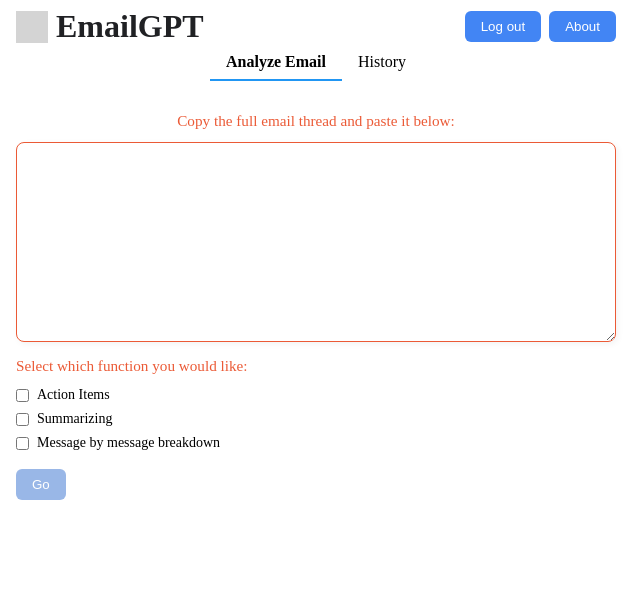
Scenario: MainScreen › shows error message when API key is invalid
Type "Test email content" into the text box.
click(316, 242); type("Test email content")  # box [16,142,616,342]
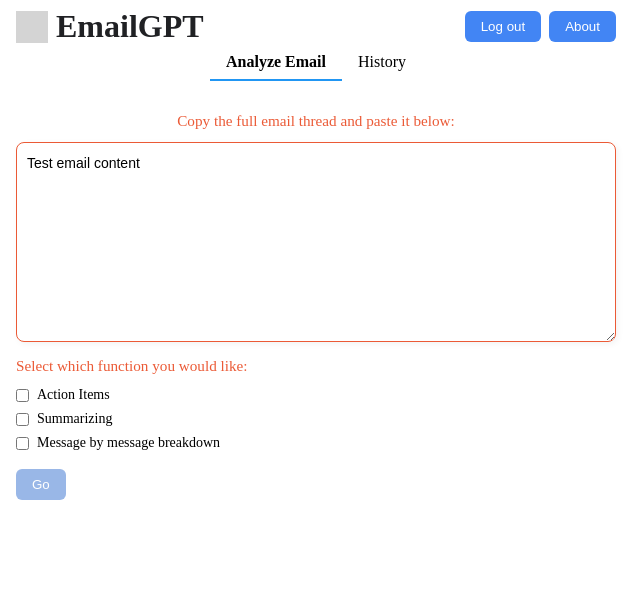
Select action items option
Click the checkbox labelled "Action Items".
click(22, 395)  # box [16,389,29,402]
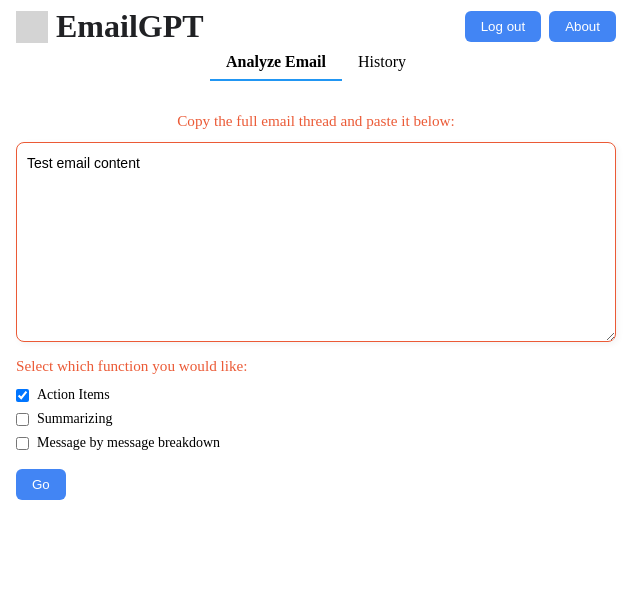
Click the button "Go".
click(41, 485)  # box [16,469,66,500]
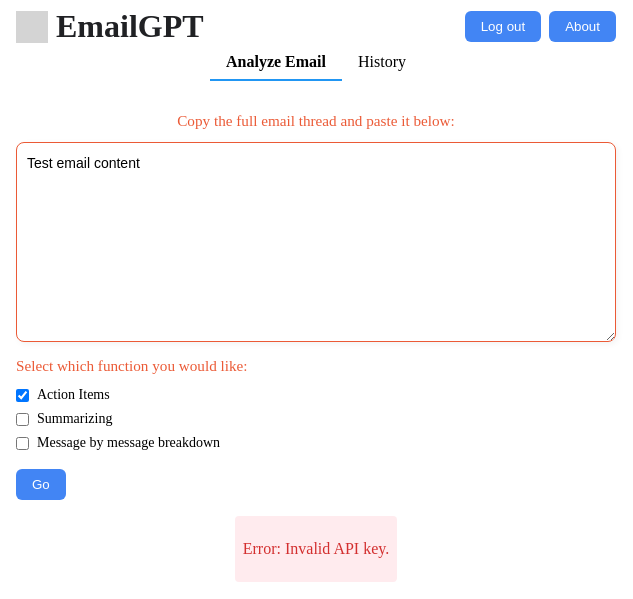
Expected: the text "Error: Invalid API key." is shown, [243,540,389,558]
